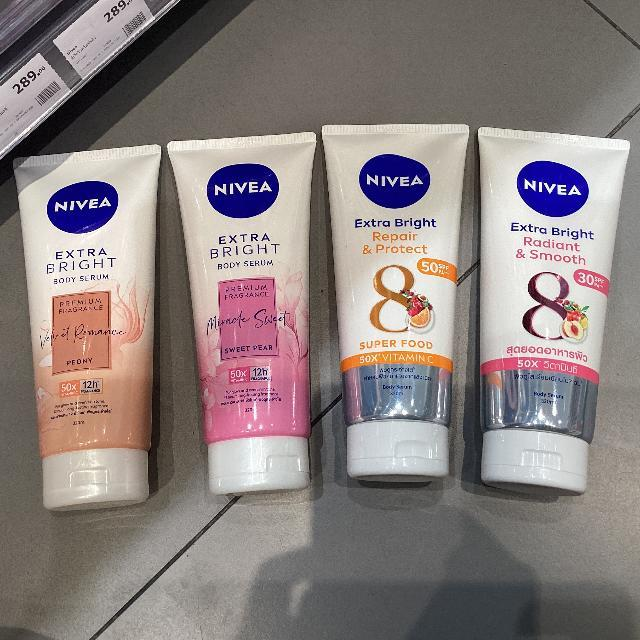Squeeze Tube: (0, 110, 640, 506), (4, 120, 167, 521), (470, 119, 637, 505), (167, 120, 318, 505), (326, 123, 466, 491)
